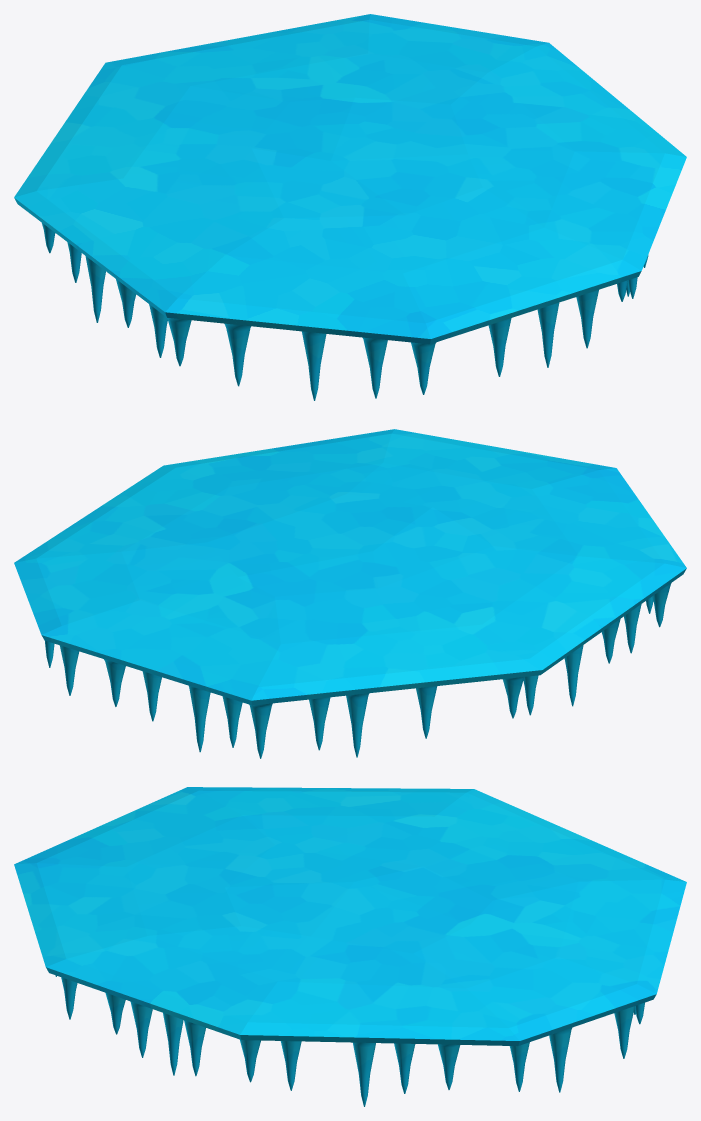
The model's file is IceTrap2.fbx.
3 renders of one model, top to bottom at view 1: azimuth 30°, elevation 25°; view 2: azimuth 150°, elevation 25°; view 3: azimuth 270°, elevation 25°, orthographic. The views are drawn at different scales.
Visible parts, largest first — view 1: IceTrap_01; view 2: IceTrap_01; view 3: IceTrap_01.
Boxes of the visible parts, x1,y1,x2,y2 form: IceTrap_01: [14, 14, 686, 400]; IceTrap_01: [14, 429, 686, 758]; IceTrap_01: [14, 787, 686, 1106].
Size of the model in its own units: 4 by 0.7631 by 4.47.
